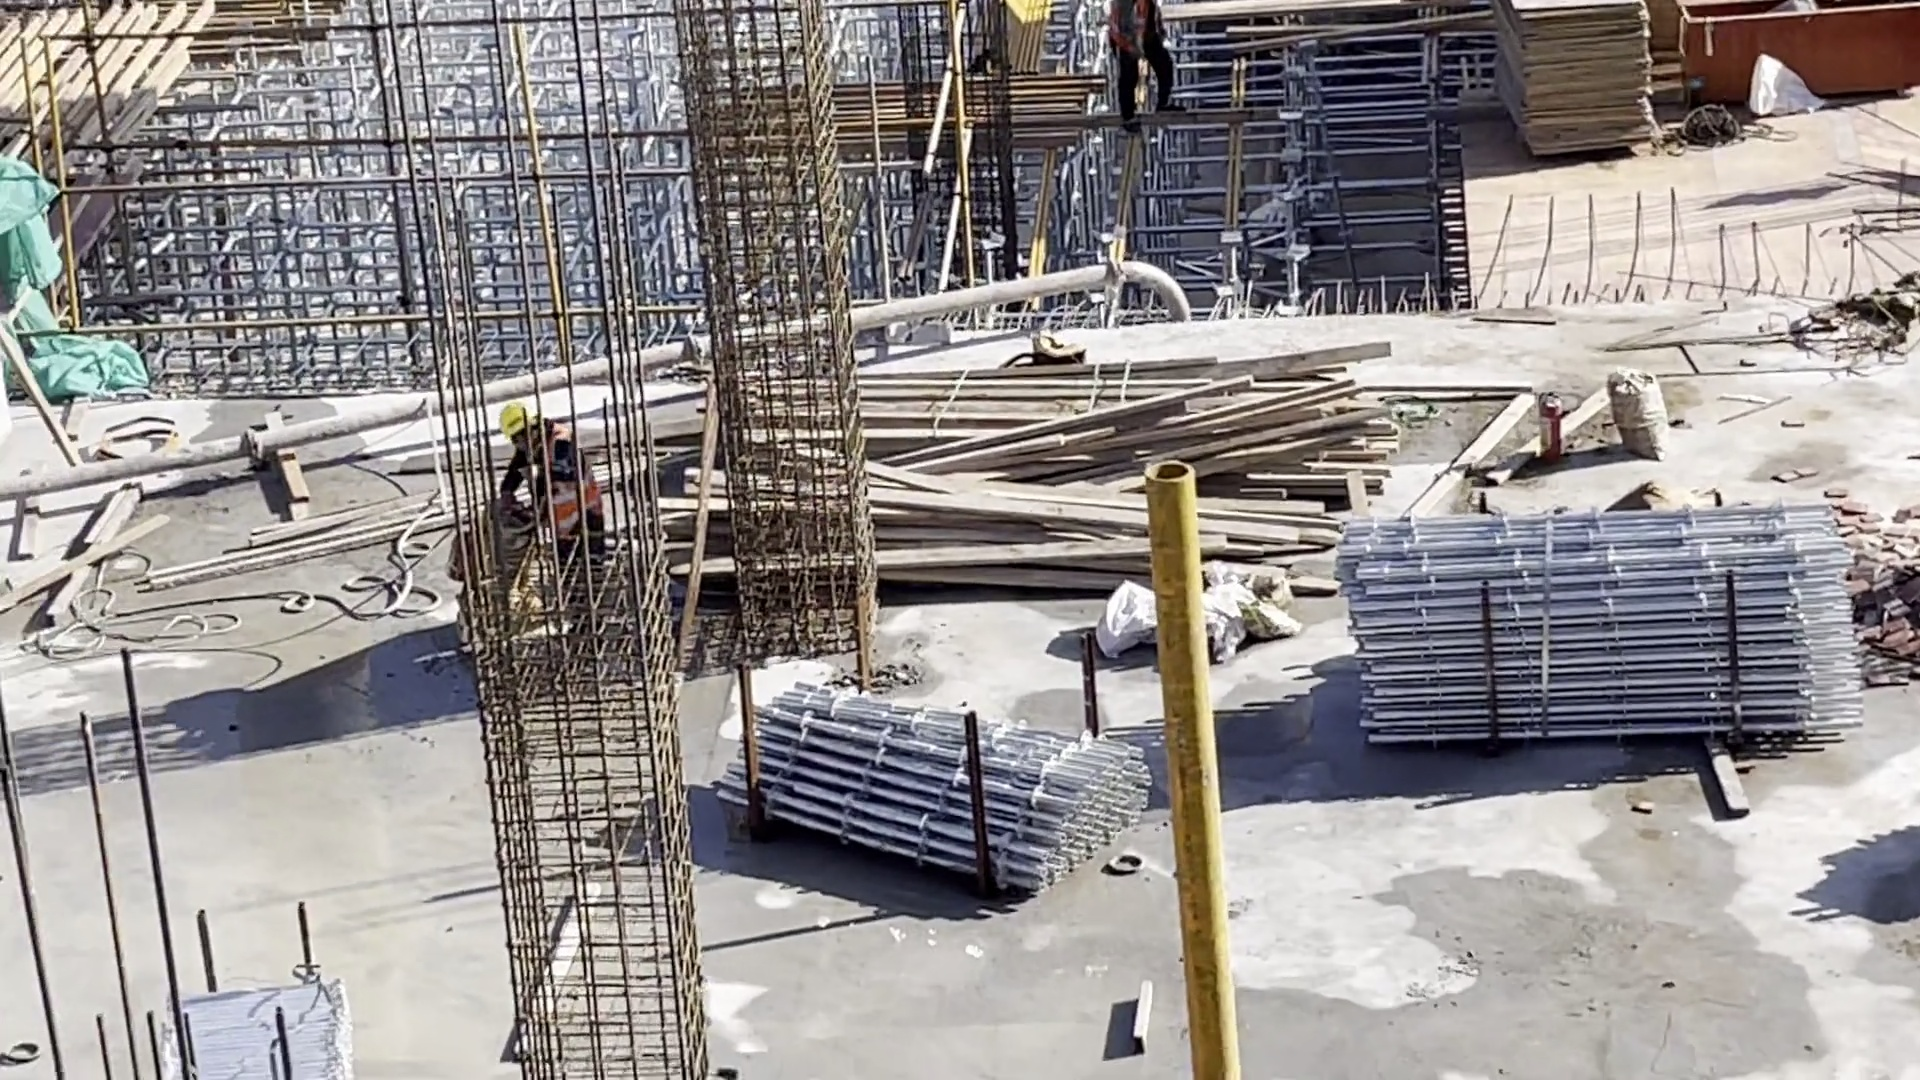board: (1496, 3, 1659, 173)
helmet: (495, 402, 532, 434)
person: (491, 405, 615, 660), (1106, 2, 1184, 123)
scaffold: (1333, 496, 1865, 755), (714, 678, 1152, 894), (161, 976, 366, 1079)
vest: (546, 421, 602, 540), (1107, 6, 1159, 56)
wood: (684, 344, 1403, 602)
